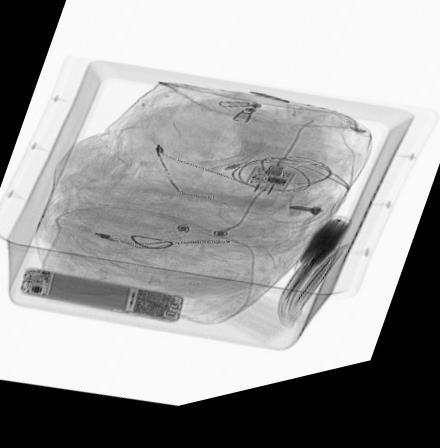Powerbank: (295, 229, 357, 285)
